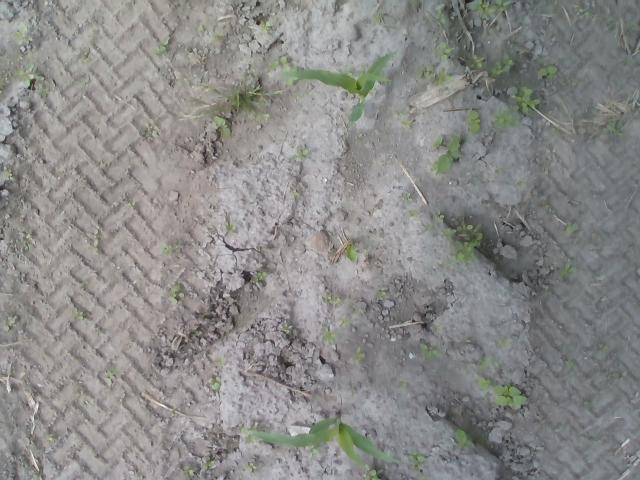Maize: (244, 410, 404, 468), (280, 53, 398, 130)
Weeds: (439, 222, 486, 266), (476, 376, 532, 410), (433, 132, 465, 176), (514, 84, 544, 114), (416, 64, 449, 88), (476, 1, 515, 18), (491, 107, 517, 129), (15, 63, 44, 82), (490, 57, 516, 77), (418, 340, 440, 361), (536, 62, 558, 82), (454, 427, 472, 450), (466, 110, 482, 134), (239, 423, 259, 442), (438, 40, 456, 61), (216, 116, 233, 138), (12, 30, 34, 46), (410, 451, 430, 468), (398, 110, 416, 128), (478, 357, 504, 369), (168, 286, 185, 304), (180, 463, 198, 480), (102, 366, 118, 385), (270, 55, 290, 70), (290, 148, 311, 162), (563, 222, 580, 238), (151, 42, 170, 56), (16, 238, 35, 252), (3, 316, 16, 336), (346, 245, 362, 261), (352, 348, 368, 364), (321, 328, 337, 344), (512, 176, 528, 192), (322, 294, 343, 306), (206, 376, 222, 391), (562, 264, 578, 278), (253, 270, 270, 283), (1, 168, 15, 182), (496, 336, 512, 348), (202, 458, 218, 470), (366, 469, 382, 480), (213, 354, 226, 367), (374, 287, 388, 299), (372, 12, 386, 24), (160, 244, 173, 256), (434, 210, 446, 223), (245, 462, 257, 474), (494, 166, 506, 178), (260, 21, 273, 32), (401, 193, 414, 203), (224, 222, 236, 232)
